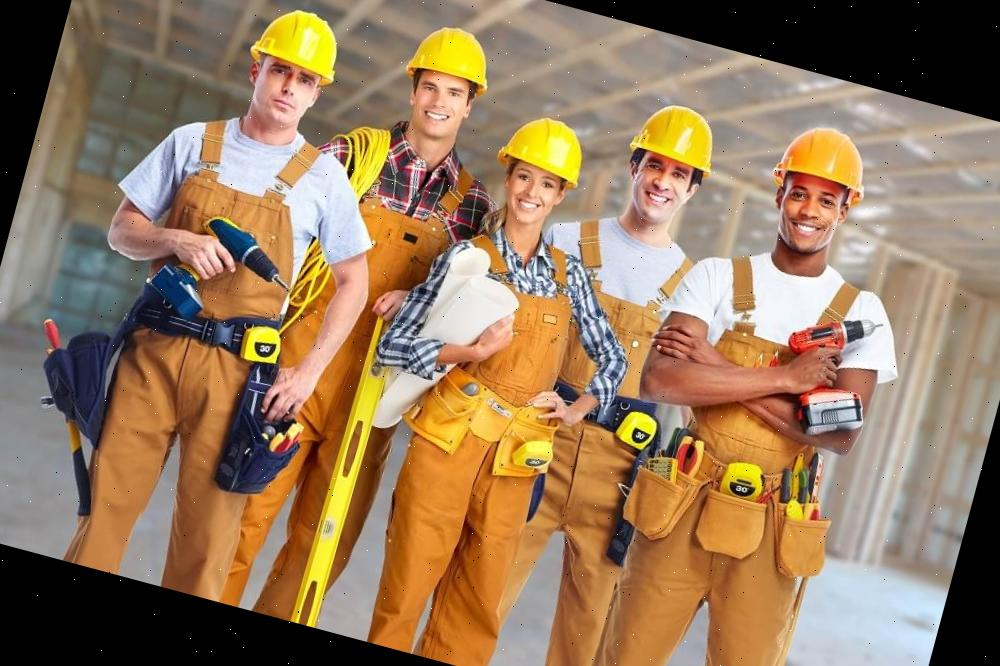helmet: (768, 112, 885, 206), (622, 92, 732, 186), (244, 0, 354, 89), (494, 105, 602, 193), (404, 18, 505, 97)
no_wear: (651, 253, 883, 510), (130, 119, 338, 354), (293, 135, 489, 381), (409, 227, 592, 439), (531, 217, 702, 426)
